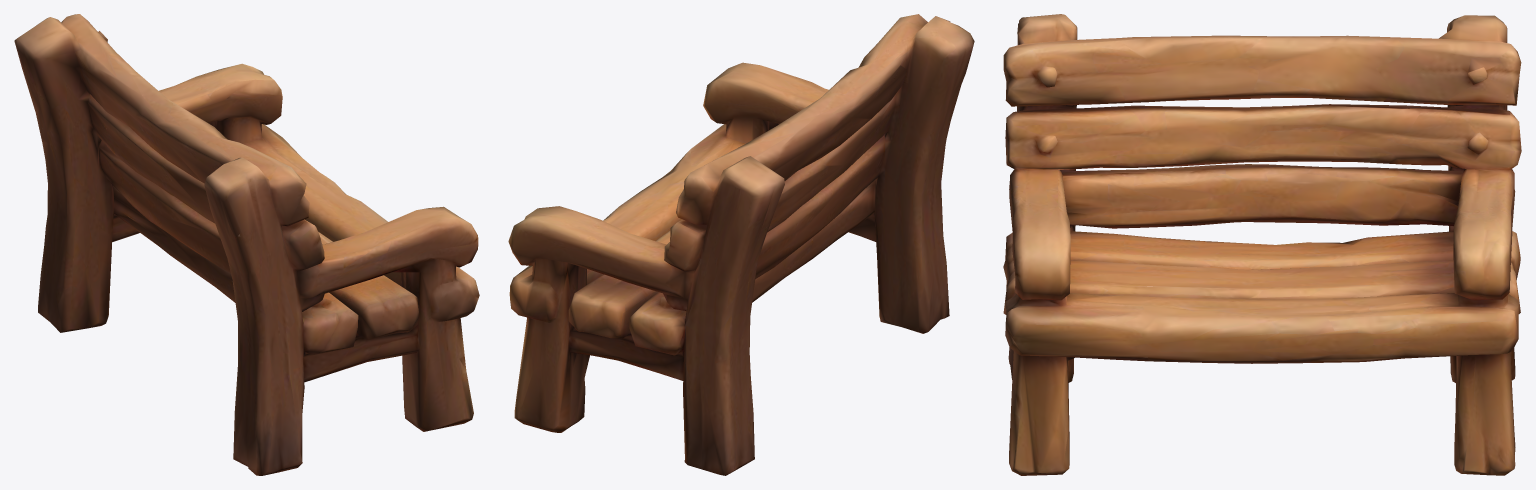
File: bench_l1.glb
3 renders of one model, left to right at view 1: azimuth 30°, elevation 25°; view 2: azimuth 150°, elevation 25°; view 3: azimuth 270°, elevation 25°, orthographic. The views are drawn at different scales.
Parts seen in each view (by area): view 1: tripo_node_66807357-fffb-4544-899c-bf5d4bab21b3; view 2: tripo_node_66807357-fffb-4544-899c-bf5d4bab21b3; view 3: tripo_node_66807357-fffb-4544-899c-bf5d4bab21b3.
Boxes of the visible parts, <box> form: tripo_node_66807357-fffb-4544-899c-bf5d4bab21b3: <box>14,14,479,475</box>; tripo_node_66807357-fffb-4544-899c-bf5d4bab21b3: <box>508,14,974,475</box>; tripo_node_66807357-fffb-4544-899c-bf5d4bab21b3: <box>1003,14,1521,475</box>.
Bounding box in the file's own units: 0.6365 × 0.7224 × 0.981.
1 material, 1 textured.
